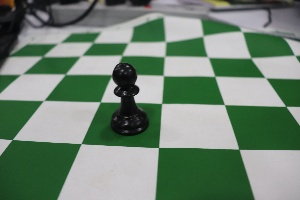black_pawn: (94, 46, 159, 142)
